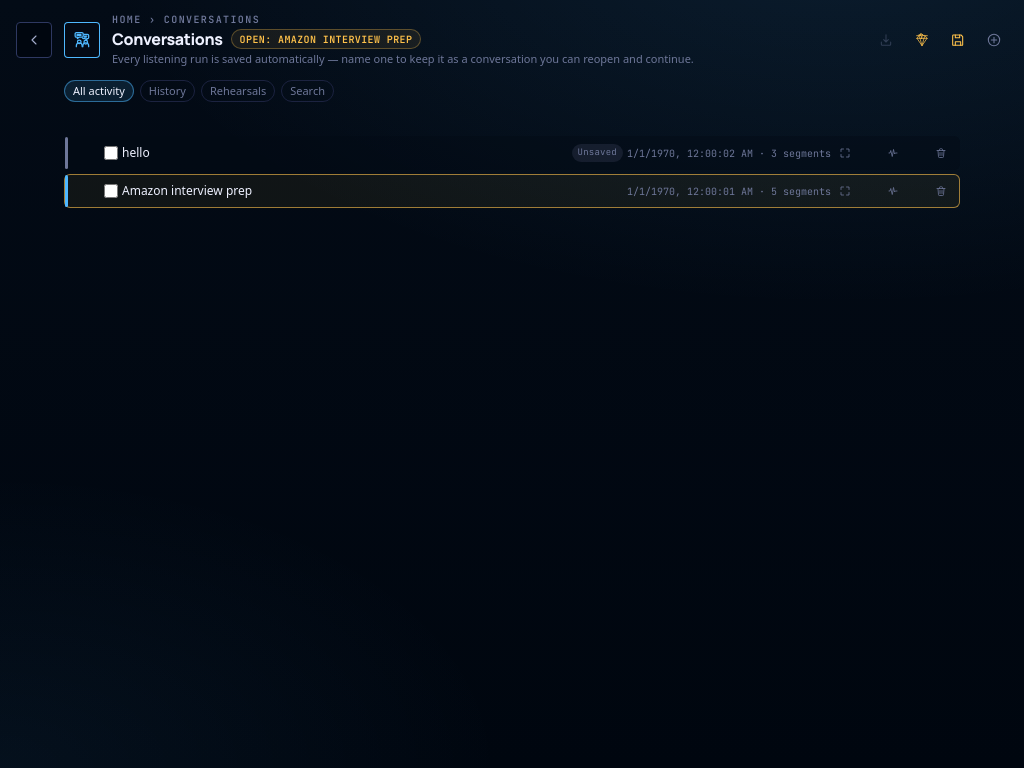
ConversationsPanel › checking two rows shows the bulk bar with a count of 2
Expected: the text "Amazon interview prep" is shown, top-left (122, 182), bottom-right (252, 199)
What coordinates should you click on to do the following:
click the checkbox named "select amazon interview prep"
I would click on:
 (111, 191)
Its box is top-left (104, 184), bottom-right (118, 198).
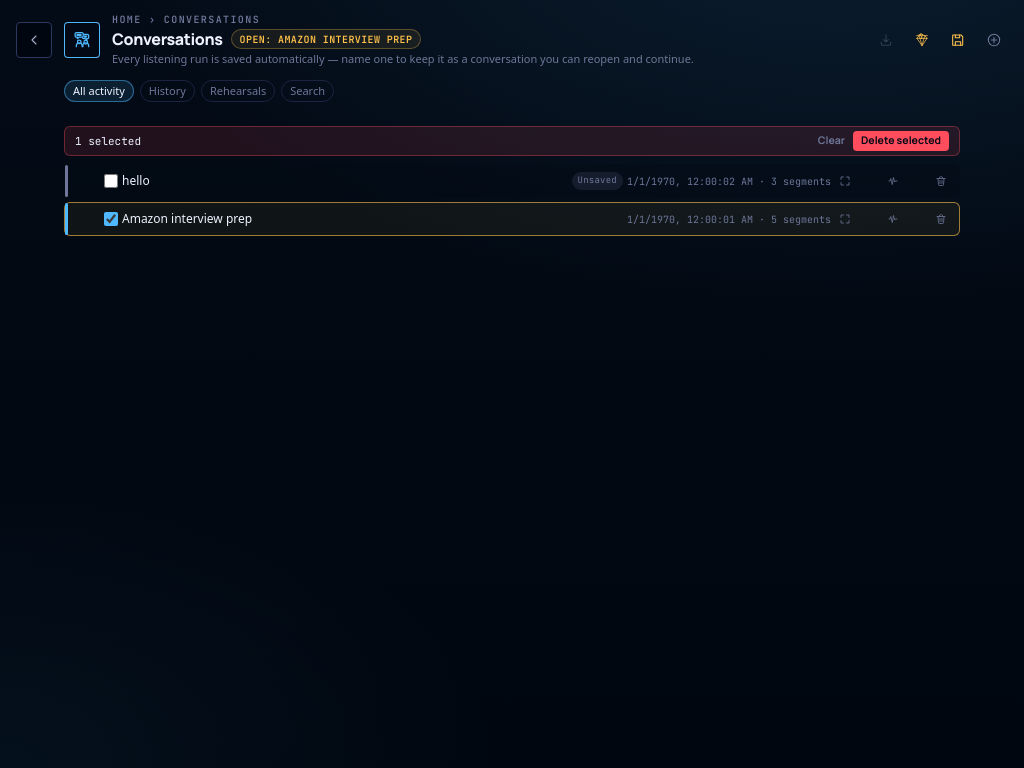
What coordinates should you click on to do the following:
click the checkbox named "select hello"
I would click on:
 (111, 181)
Its box is top-left (104, 174), bottom-right (118, 188).
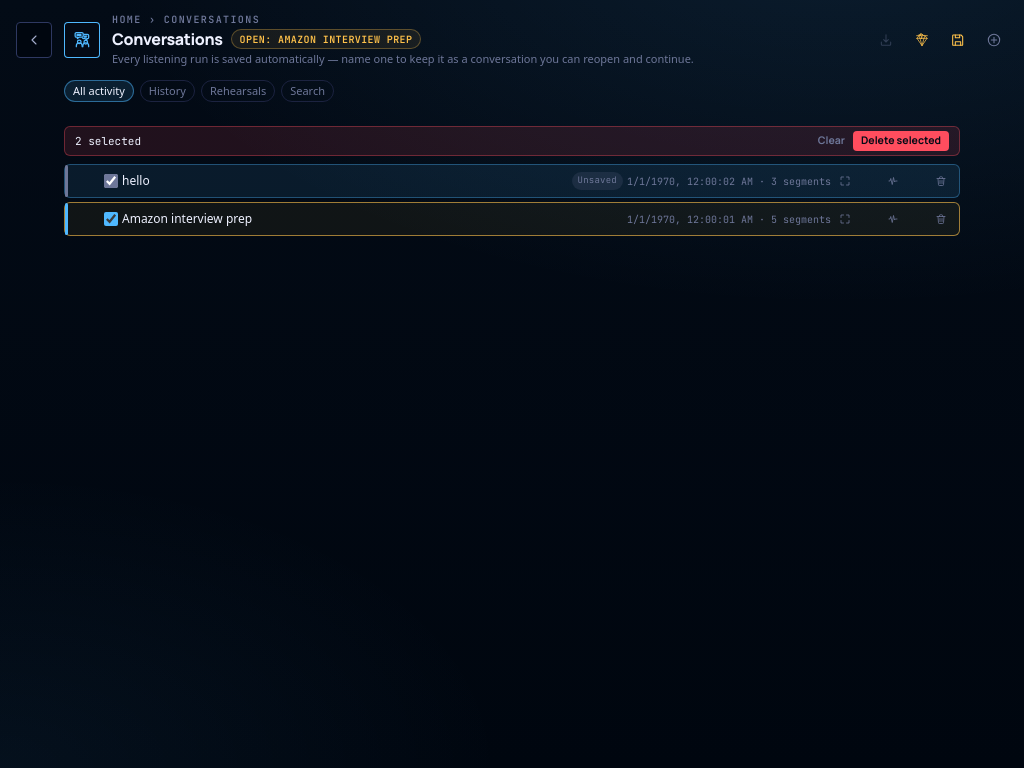
Now the text "2 selected" is shown, box top-left (75, 133), bottom-right (141, 149)
